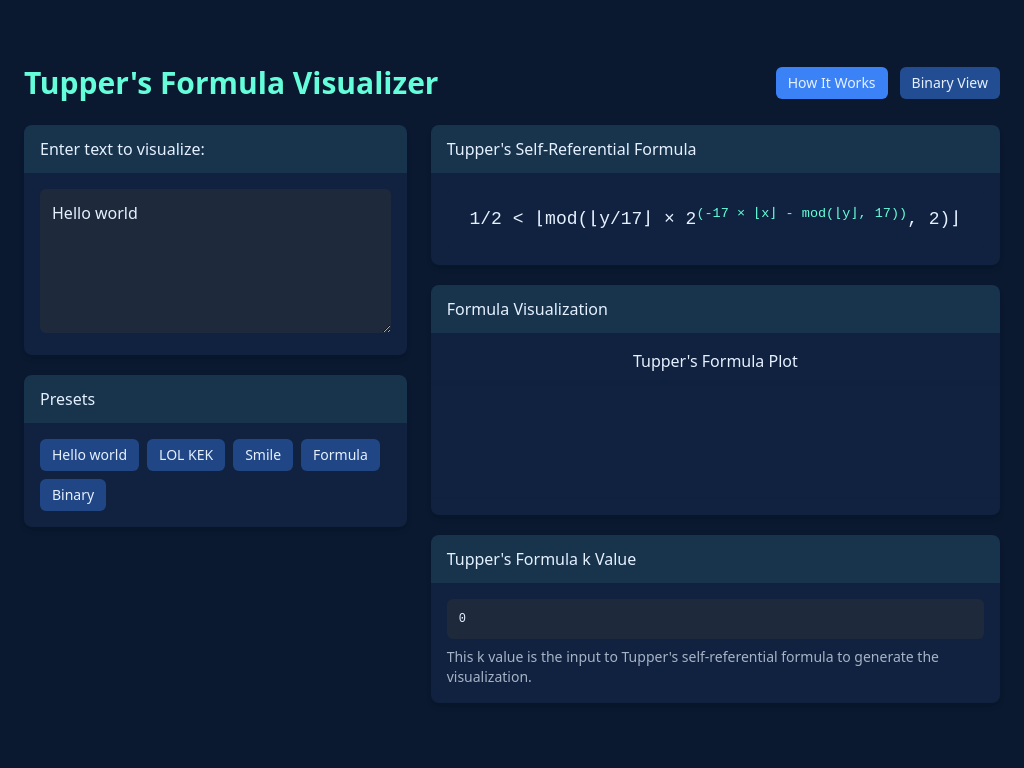
Test: App component › loads preset when preset button is clicked
The image size is (1024, 768).
Click the button "LOL KEK": [186, 455] box left=147, top=439, right=225, bottom=471
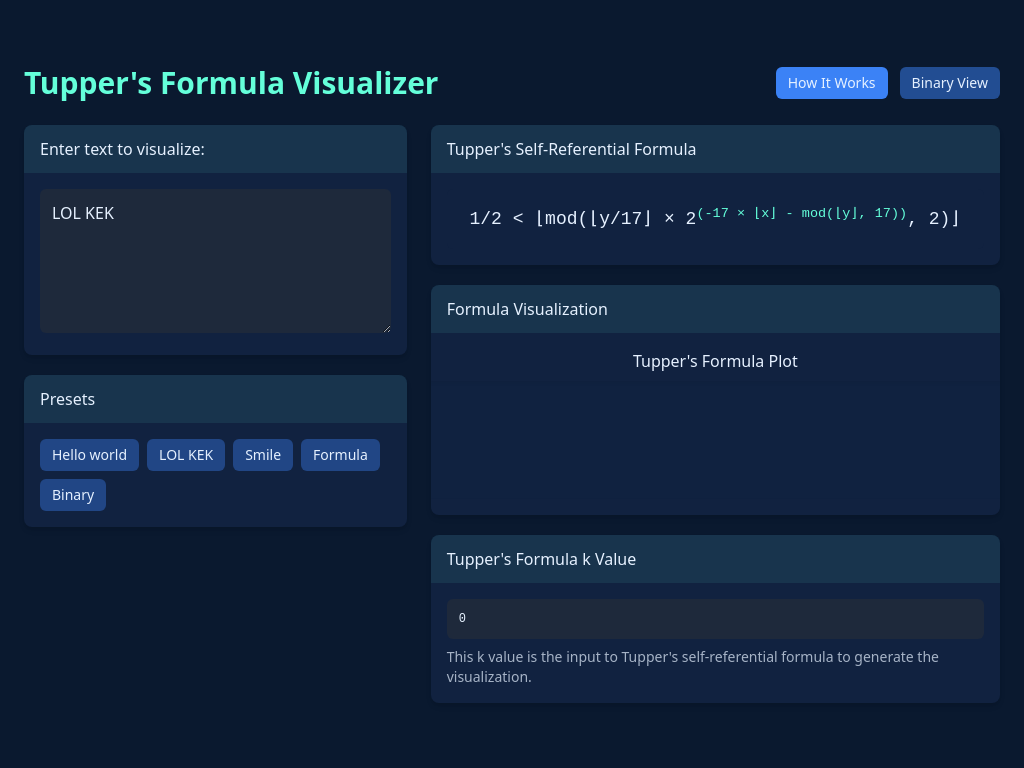
Expected: the text box with placeholder "Type text to visualize with Tupper's formula..." holds "LOL KEK", left=40, top=189, right=391, bottom=333
